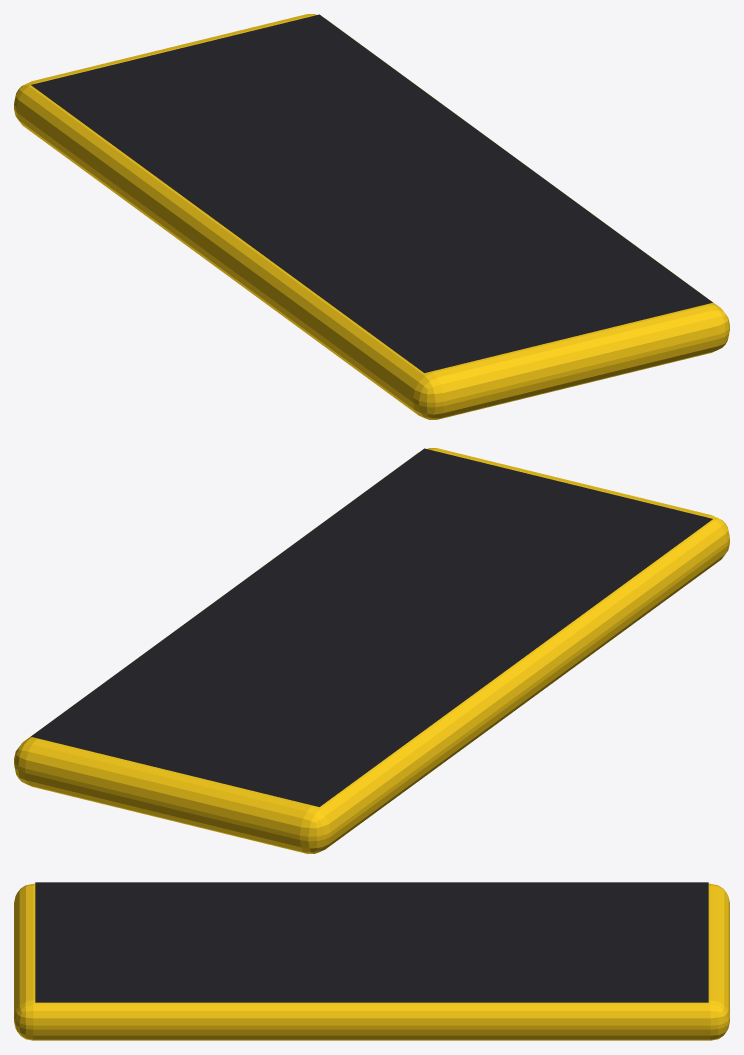
The model's file is iqoo-neo-model-195-flagship-2025.glb.
3 views of the same model, one above another, from view 1: azimuth 30°, elevation 25°; view 2: azimuth 150°, elevation 25°; view 3: azimuth 270°, elevation 25° (orthographic). The views are drawn at different scales.
Parts seen in each view (by area): view 1: Phone_Screen, Phone_Body; view 2: Phone_Screen, Phone_Body; view 3: Phone_Screen, Phone_Body.
Boxes of the visible parts, bbox=[...] form: Phone_Screen: bbox=[31, 14, 712, 372]; Phone_Body: bbox=[14, 14, 729, 419]; Phone_Screen: bbox=[31, 448, 712, 806]; Phone_Body: bbox=[14, 448, 729, 853]; Phone_Screen: bbox=[35, 882, 708, 1002]; Phone_Body: bbox=[14, 883, 729, 1040].
Bounding box in the file's own units: 0.0702 × 0.0098 × 0.1622.
